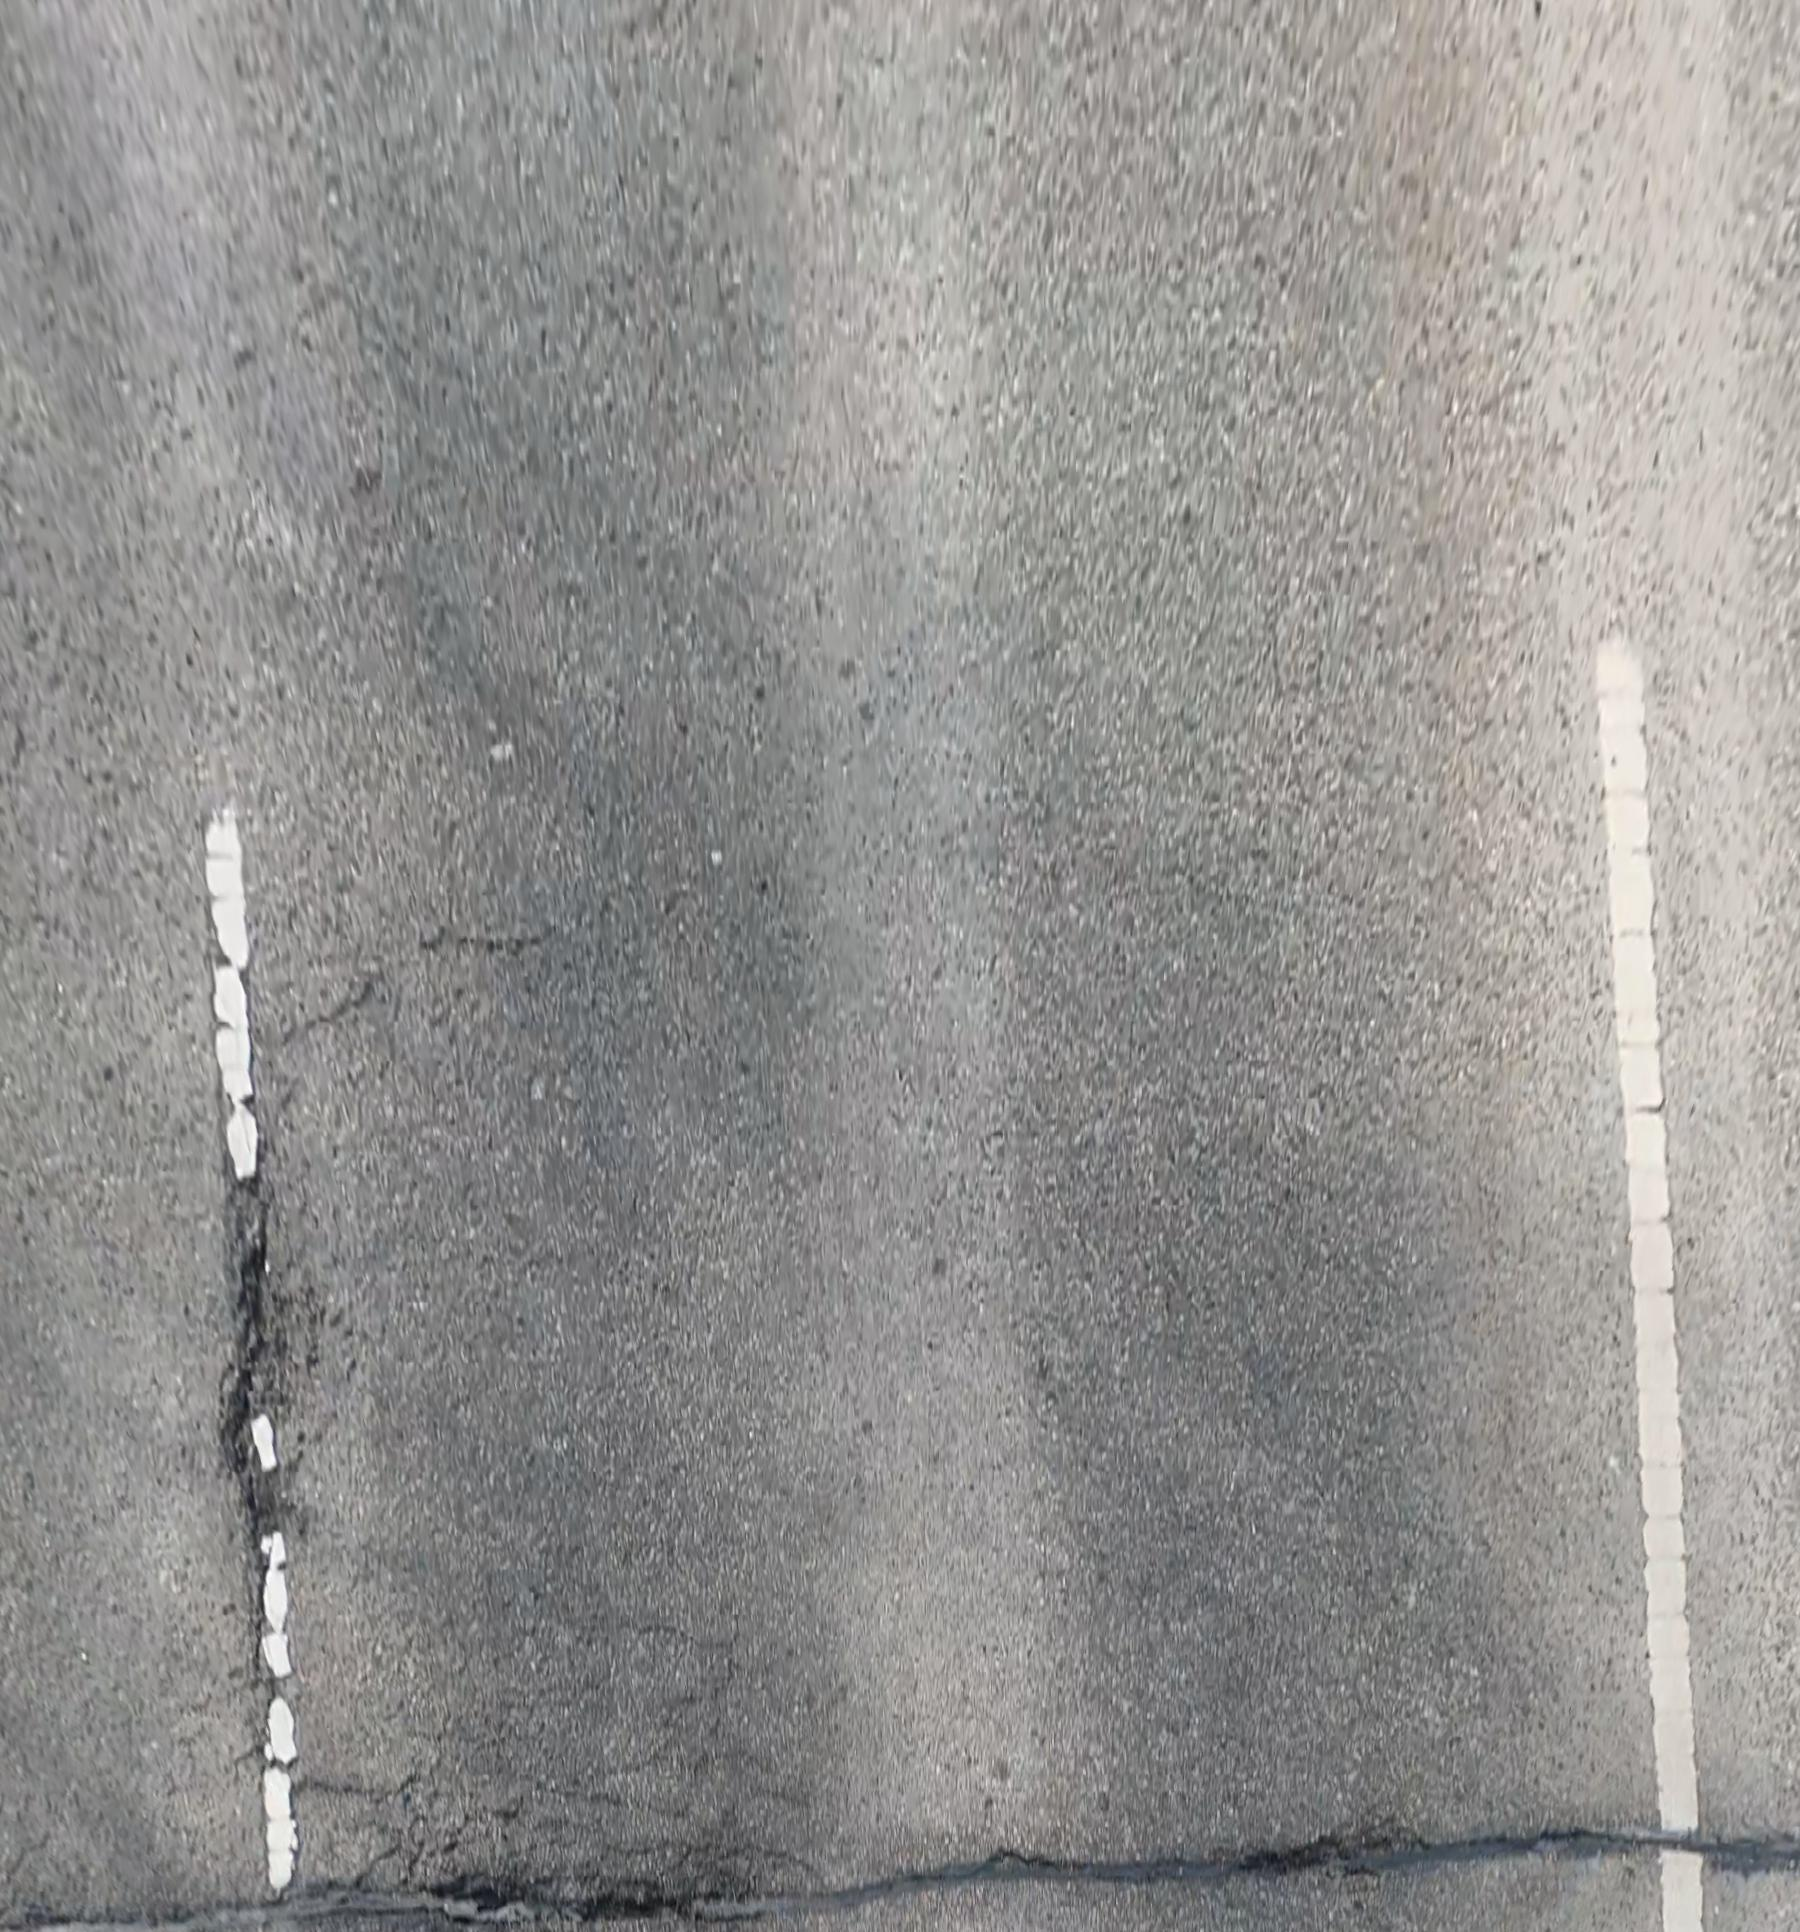pothole: (218, 1169, 284, 1567)
